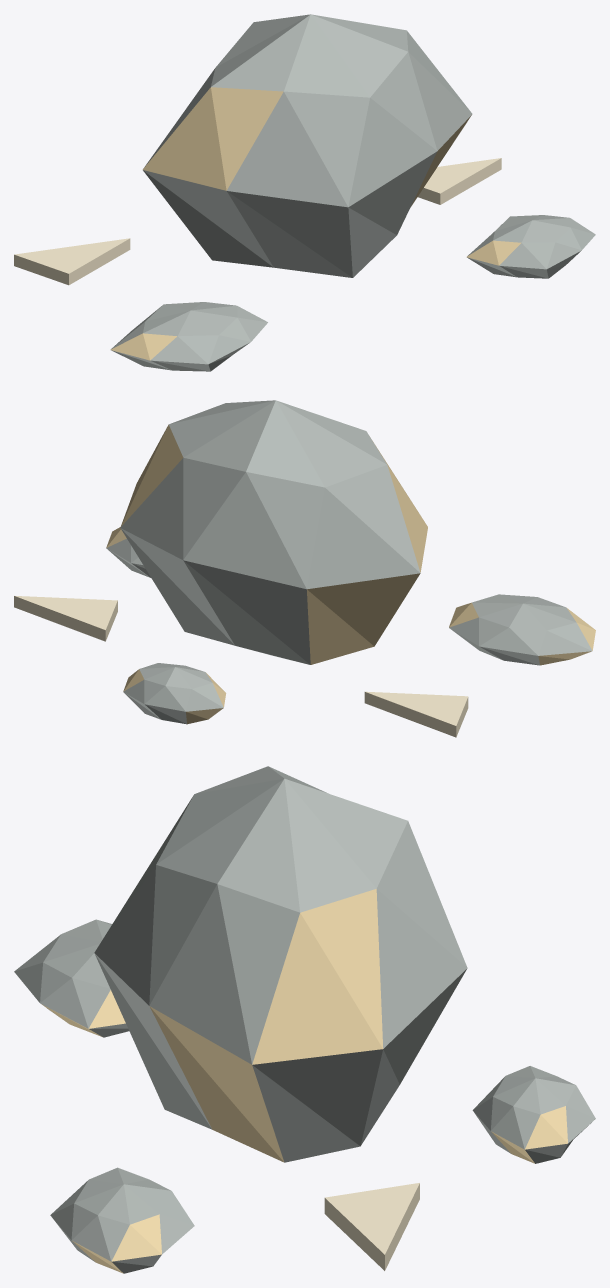
The model's file is dmanisi-stratum-a-tools.ceb09bdb02e9.glb.
3 views of the same model, one above another, from view 1: azimuth 30°, elevation 25°; view 2: azimuth 150°, elevation 25°; view 3: azimuth 270°, elevation 25° (orthographic). The views are drawn at different scales.
Parts seen in each view (by area): view 1: dmanisi-stratum-a-tools; view 2: dmanisi-stratum-a-tools; view 3: dmanisi-stratum-a-tools.
Part boxes in pixels (left/top/right/bottom): dmanisi-stratum-a-tools: left=14, top=14, right=595, bottom=371; dmanisi-stratum-a-tools: left=14, top=400, right=595, bottom=737; dmanisi-stratum-a-tools: left=14, top=766, right=595, bottom=1273.
Size of the model in its own units: 1 by 0.5046 by 0.7313.
